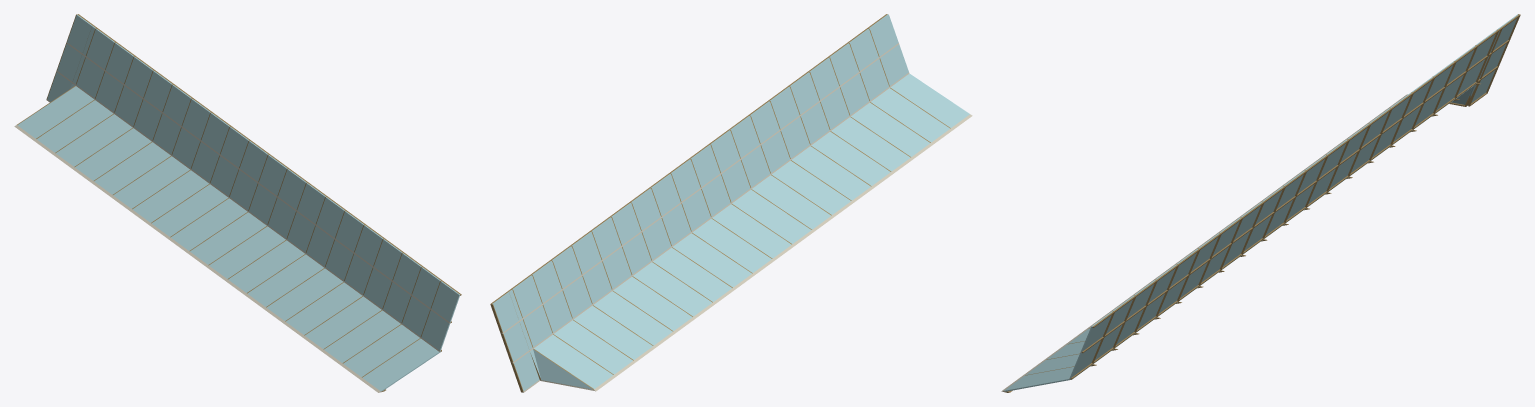
Rendered from G7_Completion_R003_Body_-1_02.glb.
The picture shows the model from 3 angles, left to right: view 1: azimuth 30°, elevation 25°; view 2: azimuth 150°, elevation 25°; view 3: azimuth 330°, elevation 25°; orthographic projection. The views are drawn at different scales.
Visible parts, largest first — view 1: Body_-1_02_G7C3_glass_solid_skin, Body_-1_02_G7C3_metal_solid_skin, Body_-1_02_G7C3_shell_solid_skin, Body_-1_02_G7C3_metal_solid_frame; view 2: Body_-1_02_G7C3_glass_solid_skin, Body_-1_02_G7C3_metal_solid_skin, Body_-1_02_G7C3_shell_solid_skin, Body_-1_02_G7C3_metal_solid_frame; view 3: Body_-1_02_G7C3_glass_solid_skin, Body_-1_02_G7C3_metal_solid_frame, Body_-1_02_G7C3_shell_solid_skin.
Part boxes in pixels (bbox=[...]): Body_-1_02_G7C3_glass_solid_skin: bbox=[17, 14, 460, 391]; Body_-1_02_G7C3_metal_solid_skin: bbox=[17, 14, 441, 377]; Body_-1_02_G7C3_shell_solid_skin: bbox=[14, 42, 450, 392]; Body_-1_02_G7C3_metal_solid_frame: bbox=[77, 14, 461, 391]; Body_-1_02_G7C3_glass_solid_skin: bbox=[492, 14, 969, 390]; Body_-1_02_G7C3_metal_solid_skin: bbox=[491, 28, 950, 391]; Body_-1_02_G7C3_shell_solid_skin: bbox=[501, 43, 972, 392]; Body_-1_02_G7C3_metal_solid_frame: bbox=[490, 14, 887, 392]; Body_-1_02_G7C3_glass_solid_skin: bbox=[1004, 14, 1518, 391]; Body_-1_02_G7C3_metal_solid_frame: bbox=[1004, 14, 1520, 392]; Body_-1_02_G7C3_shell_solid_skin: bbox=[1001, 94, 1468, 391].
Bounding box in the file's own units: 15.08 × 13.5 × 120.
3 materials, 2 textured.
